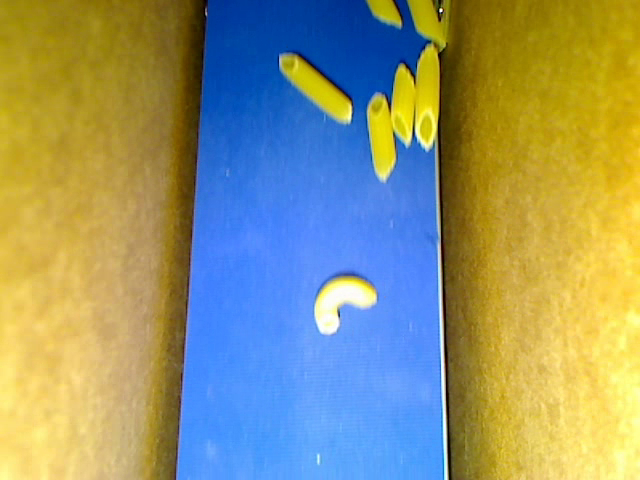elbow: (309, 271, 380, 337)
penne: (276, 53, 356, 125), (412, 42, 443, 152), (364, 91, 397, 183), (390, 59, 413, 147), (405, 1, 447, 49), (363, 1, 406, 33)
